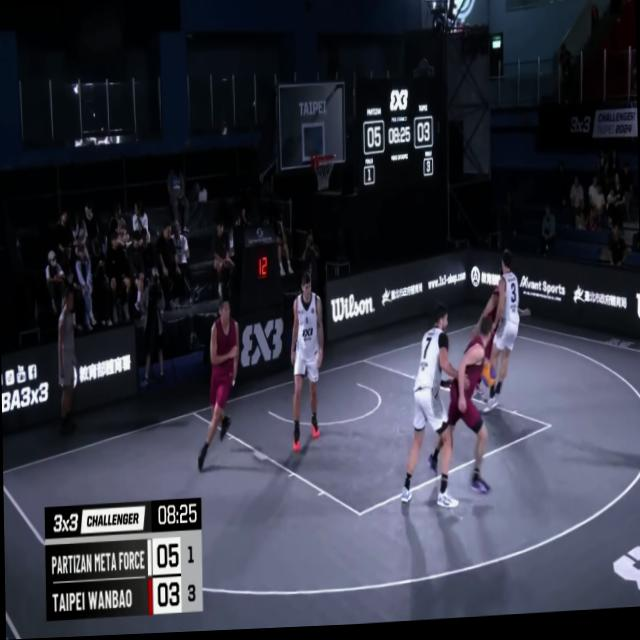ball: (478, 359, 496, 397)
hoop: (311, 152, 334, 196)
player: (421, 317, 499, 502), (396, 299, 461, 520), (192, 295, 242, 472), (472, 247, 524, 416), (470, 271, 530, 398), (288, 271, 326, 454)
